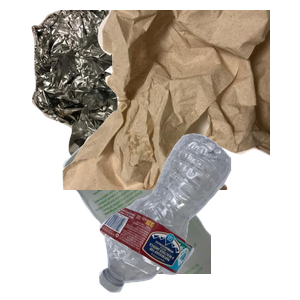glass: (60, 120, 300, 300)
metal: (29, 10, 269, 190)
plastic: (96, 131, 300, 300)
trash: (60, 10, 300, 190)
